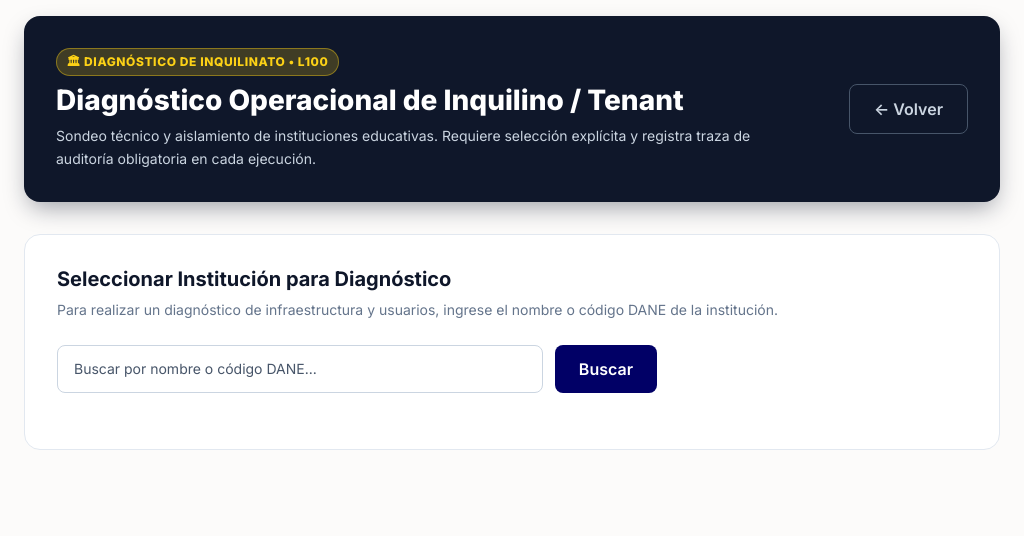
NTA-10-R8: Tenant Diagnostics DANE & Name Search Verification › 4. Backend/network errors display an actionable error alert
Type "ErrorTest" into the field labelled "Buscar por nombre o código DANE..." at [300, 369], box x1=57 y1=345 x2=543 y2=393
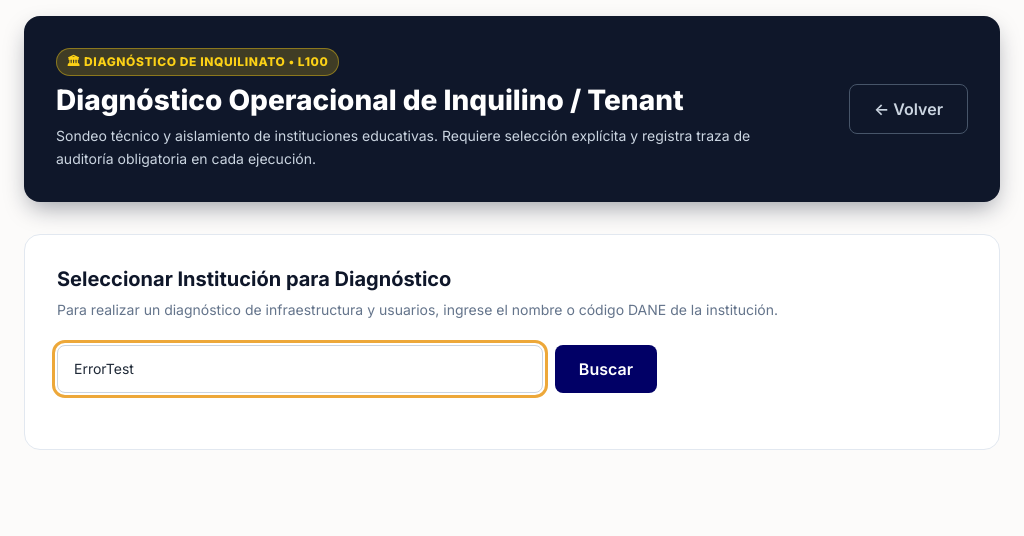
Click the button "Buscar" at [606, 369], box x1=555 y1=345 x2=657 y2=393
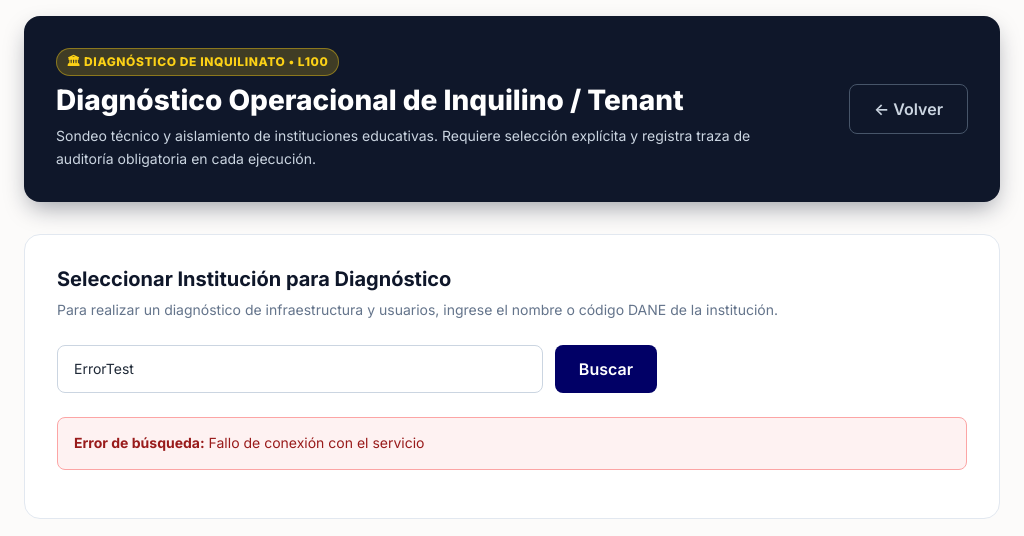
Check: the message shows "Fallo de conexión con el servicio", box x1=209 y1=434 x2=424 y2=451
